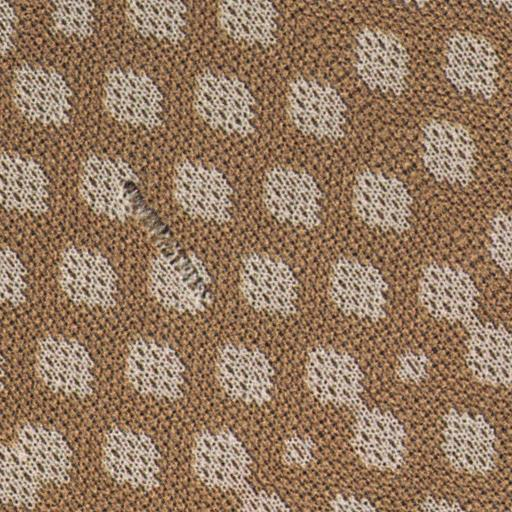slub: (113, 157, 227, 319)
